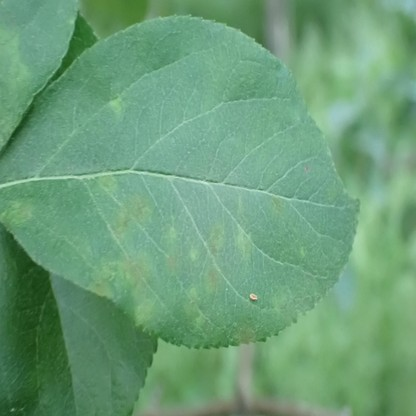scab: (0, 26, 30, 105), (112, 192, 152, 234), (122, 252, 157, 293), (89, 254, 118, 297), (0, 200, 33, 228), (206, 221, 225, 257), (134, 298, 155, 328), (97, 173, 119, 197), (273, 285, 292, 312), (204, 263, 219, 296), (236, 229, 253, 258), (236, 323, 257, 342), (185, 289, 198, 317), (163, 216, 178, 239), (110, 93, 124, 116), (167, 248, 179, 273), (269, 196, 285, 214), (189, 247, 199, 262), (300, 245, 307, 261), (236, 192, 241, 208)
